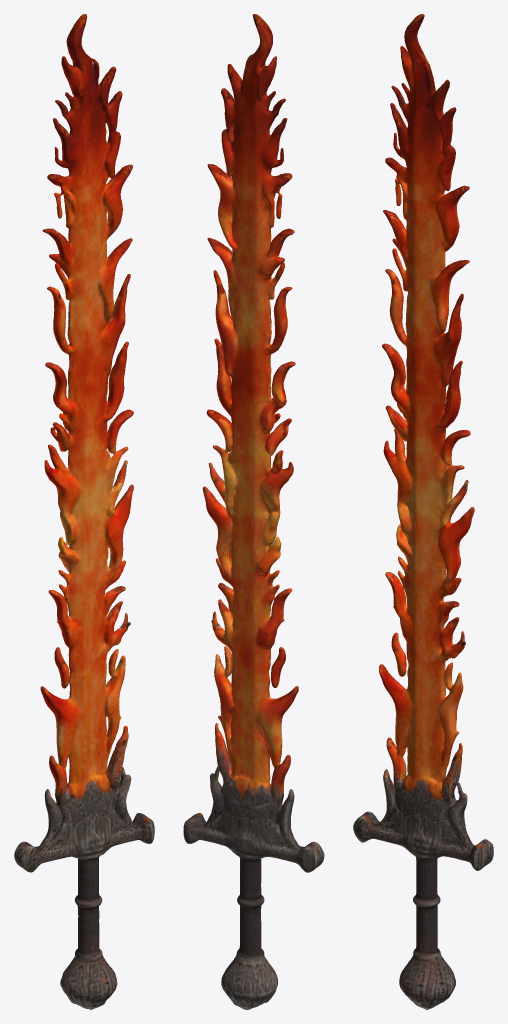
Rendered from ares-v1.glb.
The picture shows the model from 3 angles, left to right: view 1: azimuth 30°, elevation 25°; view 2: azimuth 150°, elevation 25°; view 3: azimuth 330°, elevation 25°; orthographic projection.
Visible parts, largest first — view 1: Mesh_0; view 2: Mesh_0; view 3: Mesh_0.
Boxes of the visible parts, box(x1,y1,x2,y2) form: Mesh_0: box(14, 14, 154, 1009); Mesh_0: box(183, 14, 324, 1009); Mesh_0: box(353, 14, 493, 1009).
Size of the model in its own units: 0.1117 by 0.8 by 0.0404.
1 material, 1 textured.
